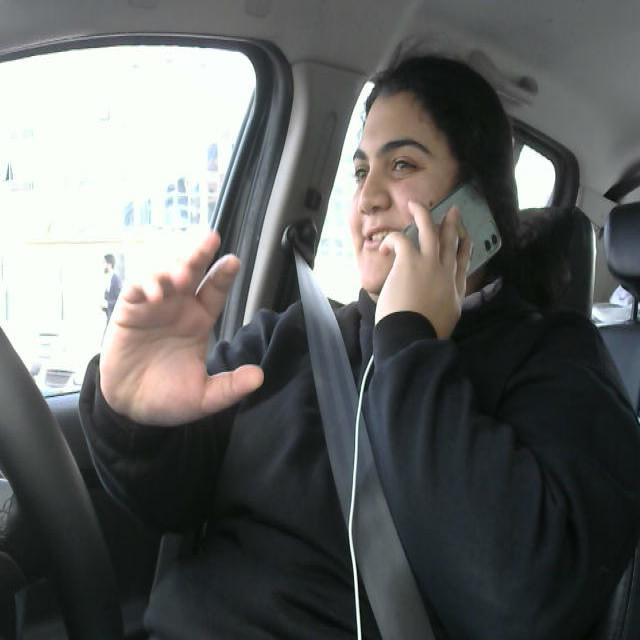mobile use: (388, 180, 504, 296)
